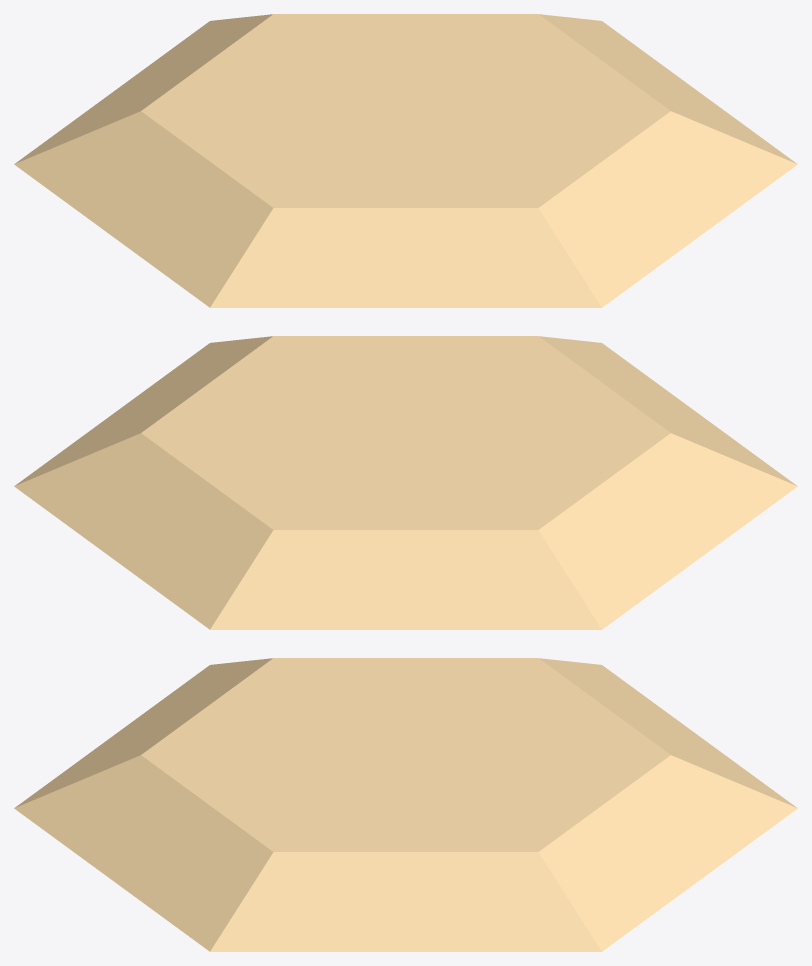
Rendered from Dirt.fbx.
The picture shows the model from 3 angles, top to bottom: view 1: azimuth 30°, elevation 25°; view 2: azimuth 150°, elevation 25°; view 3: azimuth 270°, elevation 25°; orthographic projection.
Visible parts, largest first — view 1: Dirt; view 2: Dirt; view 3: Dirt.
Part boxes in pixels (box(x1,y1,x2,y2)): Dirt: box(14, 14, 797, 307); Dirt: box(14, 336, 797, 629); Dirt: box(14, 658, 797, 951).
Bounding box in the file's own units: 173 × 15 × 200.
